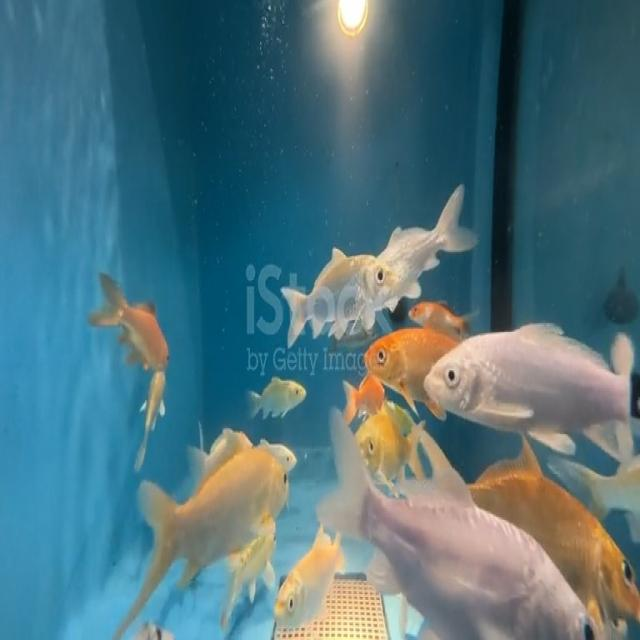fish: (317, 413, 600, 640), (414, 310, 640, 464), (120, 443, 290, 638), (480, 457, 640, 628), (273, 240, 404, 338), (372, 184, 481, 278), (269, 524, 354, 637), (90, 263, 168, 368), (352, 315, 431, 409), (221, 509, 276, 631), (350, 411, 426, 481), (134, 355, 168, 478), (244, 374, 313, 428), (406, 290, 480, 331), (330, 372, 389, 417), (188, 426, 250, 459), (266, 434, 300, 473)
